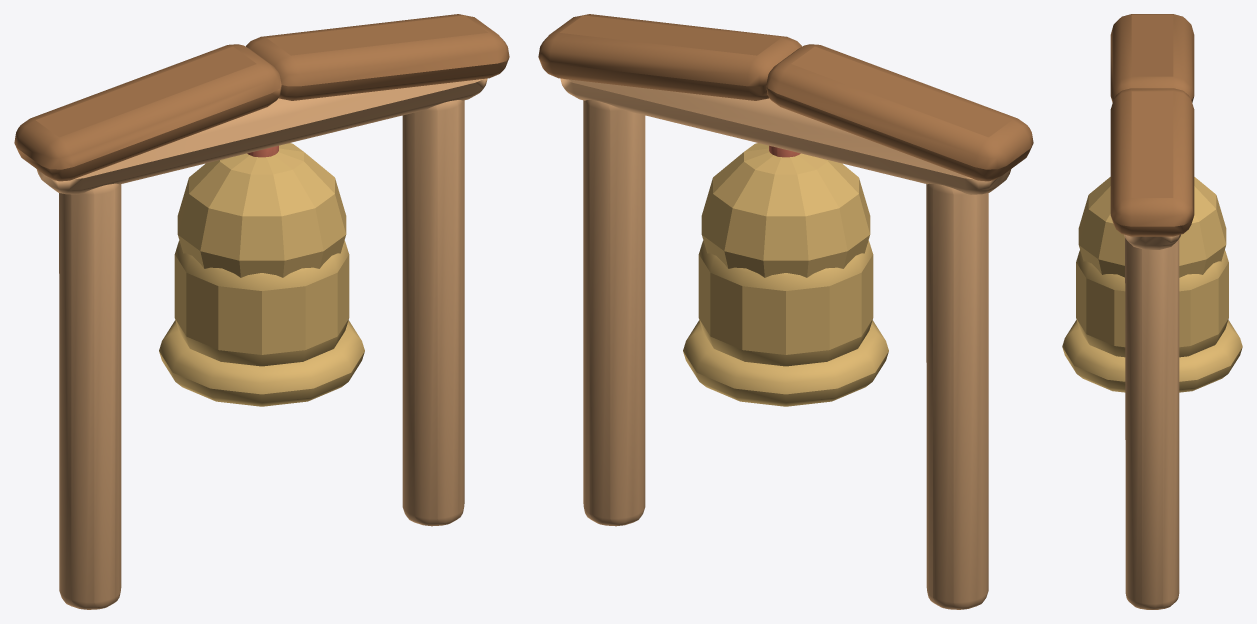
File: bell.glb
3 renders of one model, left to right at view 1: azimuth 30°, elevation 25°; view 2: azimuth 150°, elevation 25°; view 3: azimuth 270°, elevation 25°, orthographic. The views are drawn at different scales.
Visible parts, largest first — view 1: beam; view 2: beam; view 3: beam.
Part boxes in pixels (x1,y1,x2,y2): beam: (14,14,509,609); beam: (538,14,1033,609); beam: (1062,14,1242,609).
Size of the model in its own units: 0.8467 by 0.8841 by 0.325.
